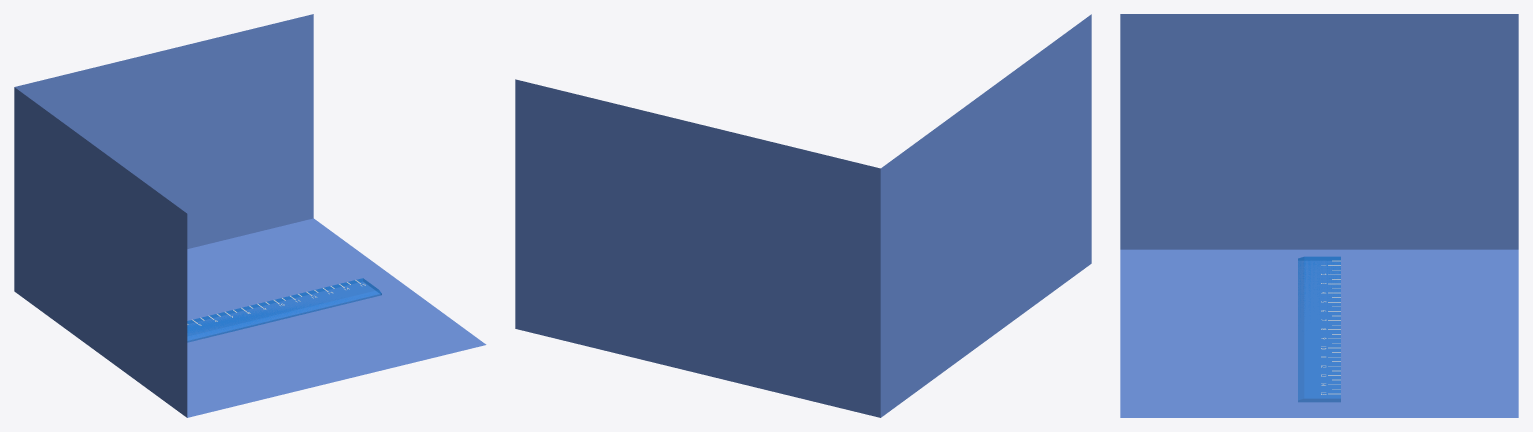
The model's file is ruler.fbx.
3 renders of one model, left to right at view 1: azimuth 30°, elevation 25°; view 2: azimuth 150°, elevation 25°; view 3: azimuth 270°, elevation 25°, orthographic. The views are drawn at different scales.
Parts seen in each view (by area): view 1: Plane, Cube; view 2: Plane; view 3: Plane, Cube.
Boxes of the visible parts, <box> form: Plane: <box>14,14,486,417</box>; Cube: <box>187,278,381,342</box>; Plane: <box>515,14,1091,417</box>; Plane: <box>1120,14,1518,417</box>; Cube: <box>1298,256,1340,402</box>.
Size of the model in its own units: 1840 by 1200 by 1840.
